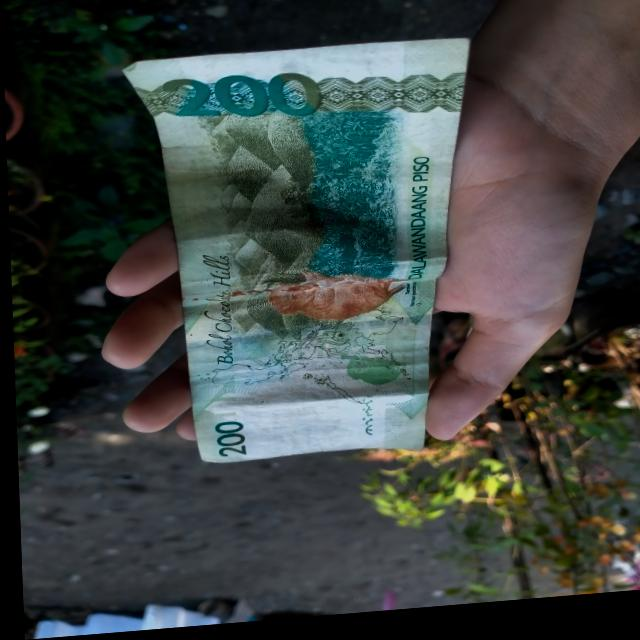see_through_mark: (350, 389, 382, 445)
value: (160, 66, 332, 134)
